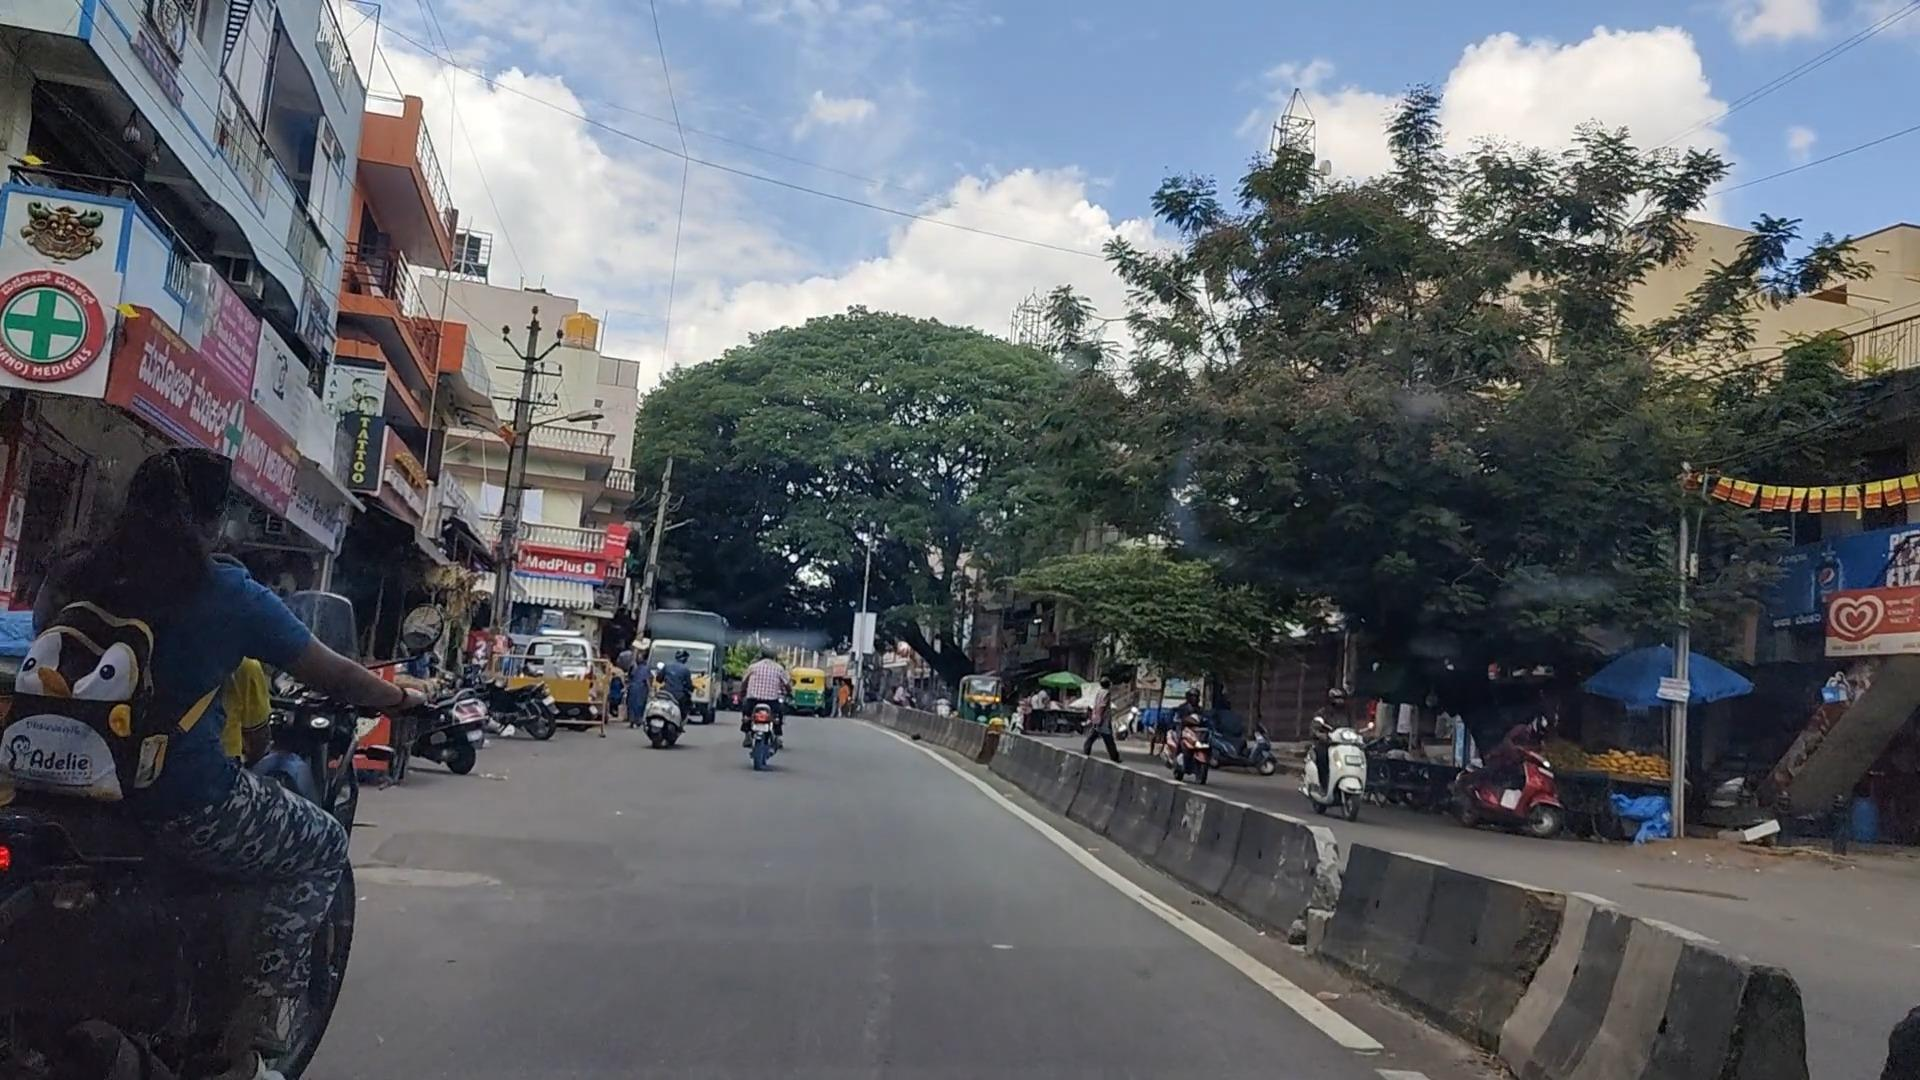LMV: (5, 448, 377, 1079)
RoadDamages: (368, 831, 531, 920)
